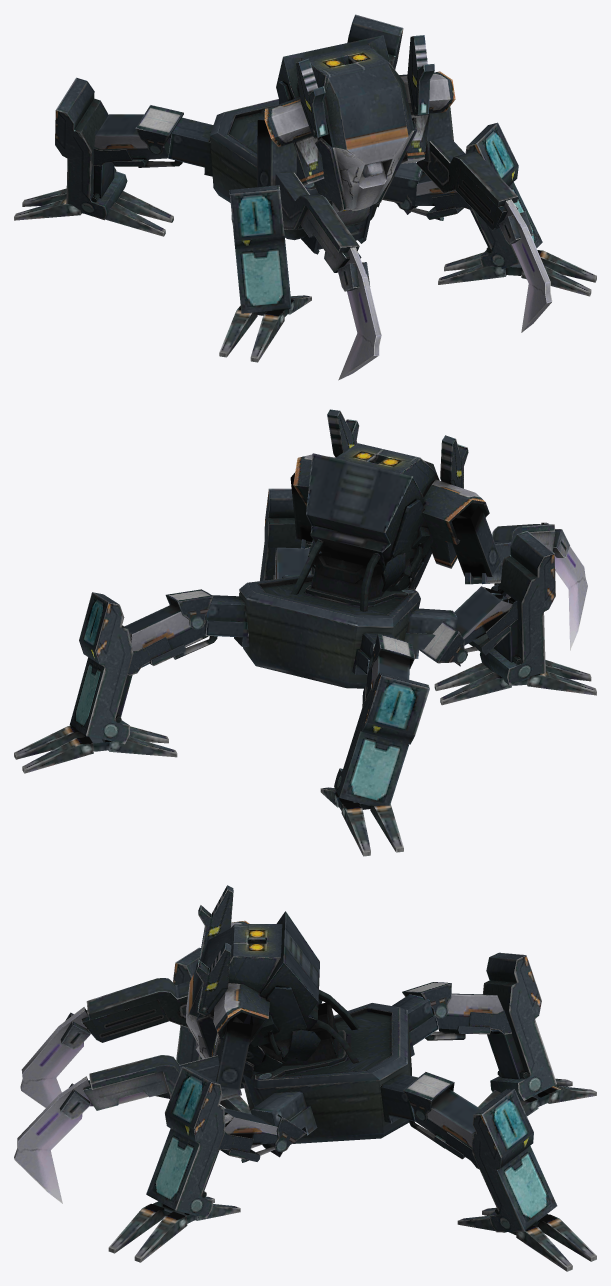
The picture shows the model from 3 angles, top to bottom: view 1: azimuth 30°, elevation 25°; view 2: azimuth 150°, elevation 25°; view 3: azimuth 270°, elevation 25°; orthographic projection. The views are drawn at different scales.
Visible parts, largest first — view 1: 20_10; view 2: 20_10; view 3: 20_10.
Part boxes in pixels (x1,y1,x2,y2): 20_10: (14,14,596,380); 20_10: (14,409,596,856); 20_10: (14,885,596,1271).
Size of the model in its own units: 301 by 193 by 394.
